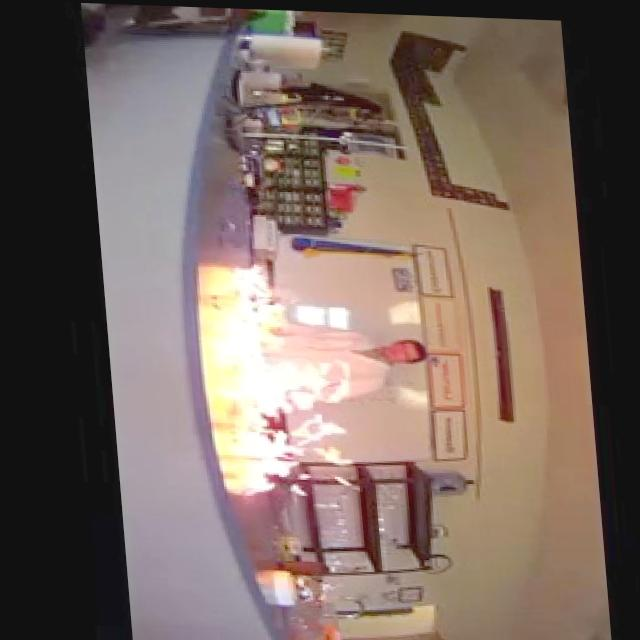Fire: (208, 259, 353, 506)
